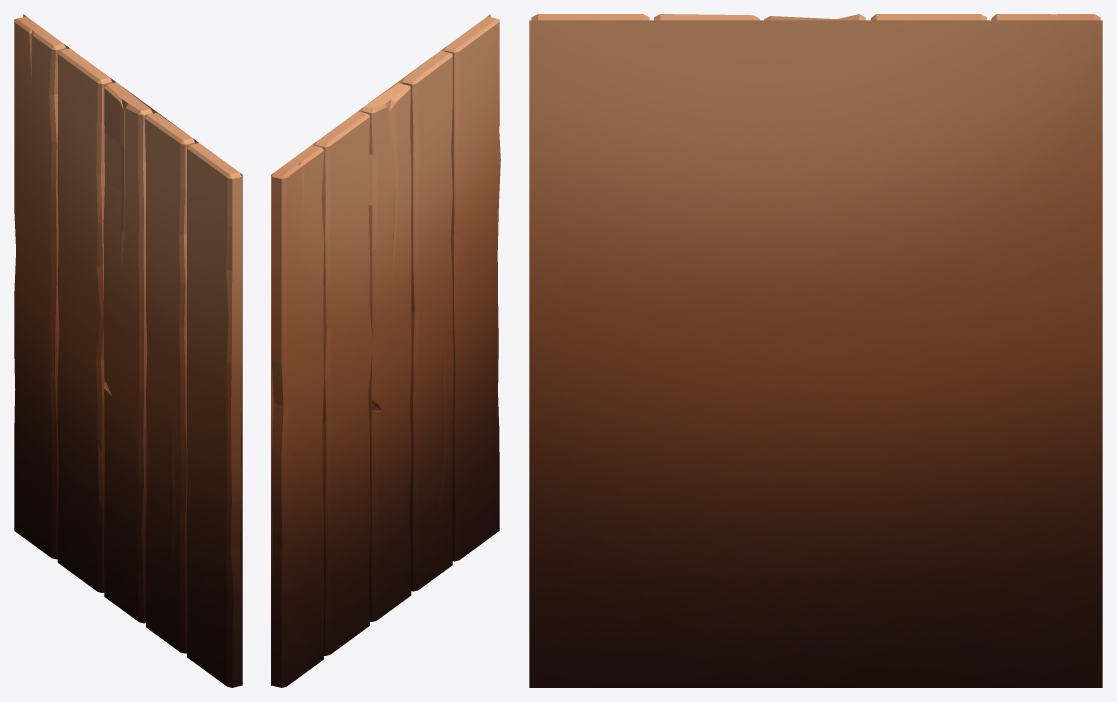
The model's file is Wall.fbx.
3 views of the same model, side by side, from view 1: azimuth 30°, elevation 25°; view 2: azimuth 150°, elevation 25°; view 3: azimuth 270°, elevation 25° (orthographic). The views are drawn at different scales.
Visible parts, largest first — view 1: Plane; view 2: Plane; view 3: Plane.
Part boxes in pixels (x1=…): Plane: x1=14, y1=14, x2=242, y2=687; Plane: x1=271, y1=14, x2=500, y2=687; Plane: x1=529, y1=14, x2=1102, y2=687.
Size of the model in its own units: 10.79 by 400 by 311.
